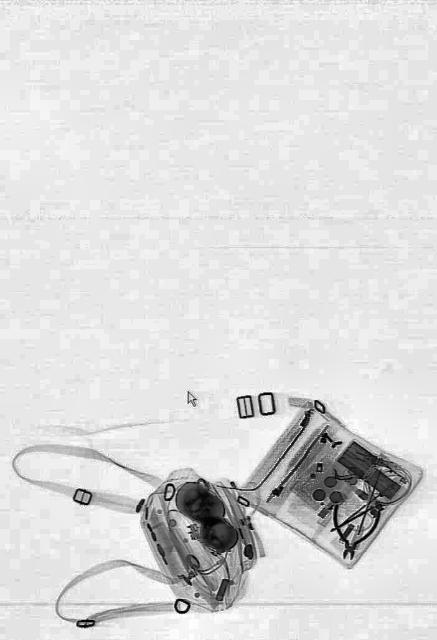Pliers: (326, 496, 380, 566)
